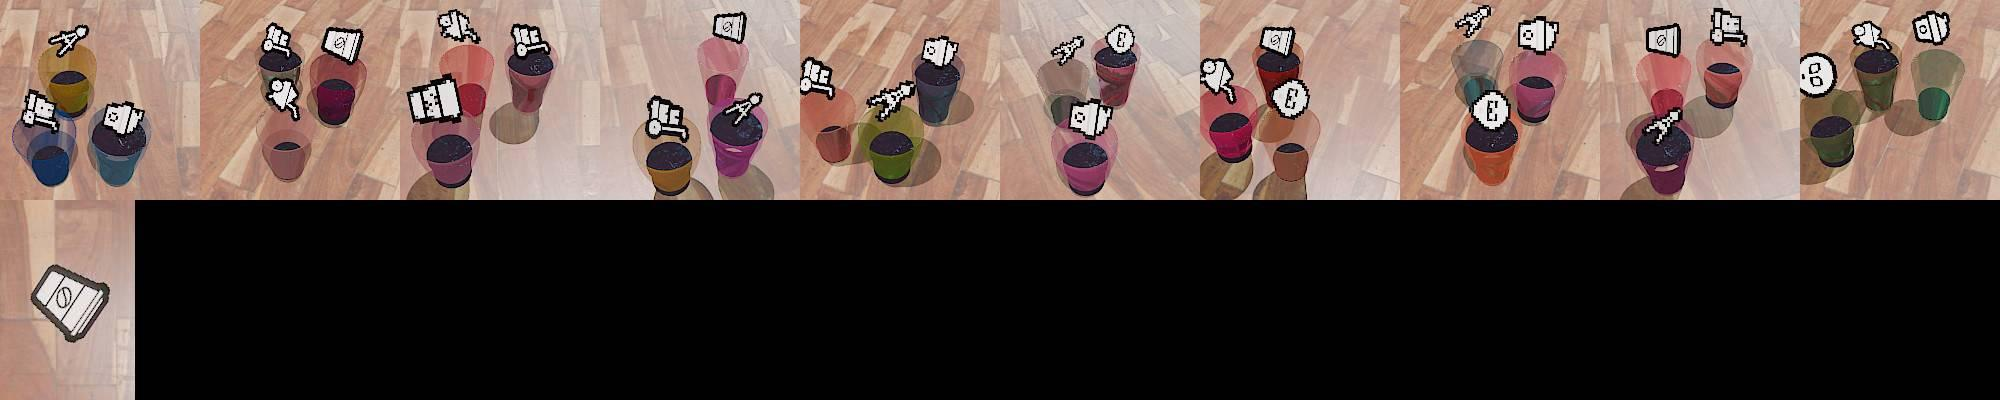icon: (29, 262, 111, 343), (406, 73, 463, 125), (866, 79, 918, 122), (1068, 96, 1115, 139), (645, 94, 687, 141), (20, 88, 61, 132), (1518, 15, 1561, 56), (321, 24, 365, 65), (1798, 52, 1837, 98), (1270, 78, 1311, 120), (1471, 89, 1511, 131), (798, 57, 838, 101), (1200, 57, 1237, 102), (719, 92, 764, 129), (264, 76, 301, 120), (102, 101, 147, 136), (436, 9, 481, 45), (1709, 6, 1747, 47), (48, 23, 91, 59), (510, 23, 548, 60), (1644, 108, 1682, 145), (1912, 10, 1952, 46), (920, 34, 959, 70), (1455, 4, 1492, 39), (1645, 23, 1681, 59), (710, 10, 746, 45), (1259, 24, 1296, 57), (261, 23, 296, 57), (1851, 20, 1888, 52), (1050, 34, 1085, 66), (1102, 23, 1135, 56)
